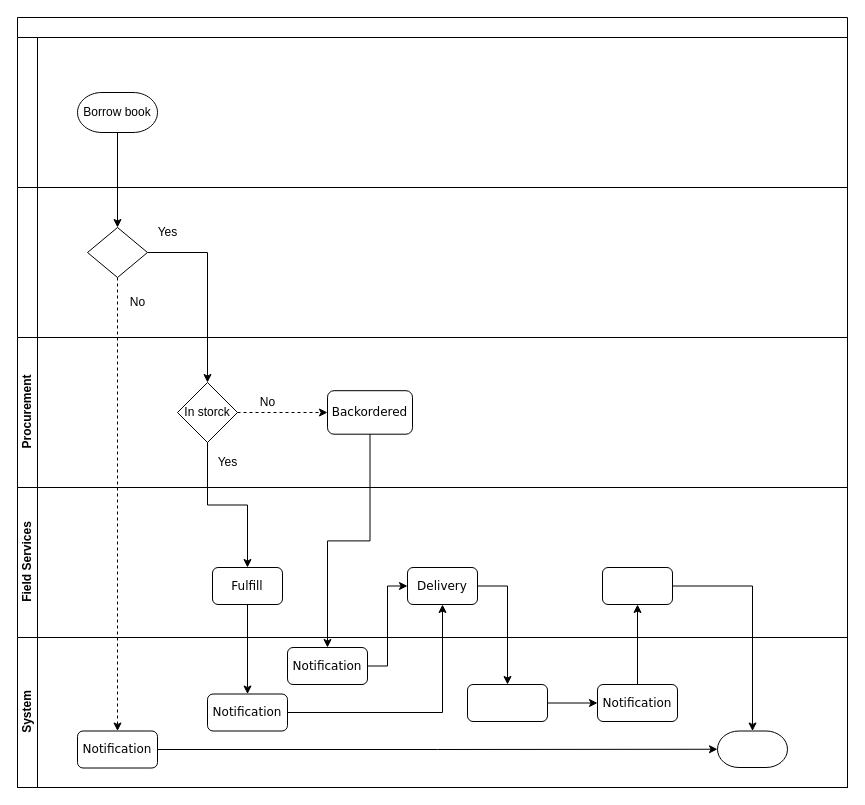
This 865x805 diagram has some shape labels left out. Each missing label, with the box of its shape:
Accept: (86, 226, 148, 278)
Check date: (466, 684, 548, 722)
Customer: (16, 36, 848, 188)
End: (716, 730, 788, 768)
Librarian: (16, 186, 848, 338)
Take book: (602, 566, 672, 604)
